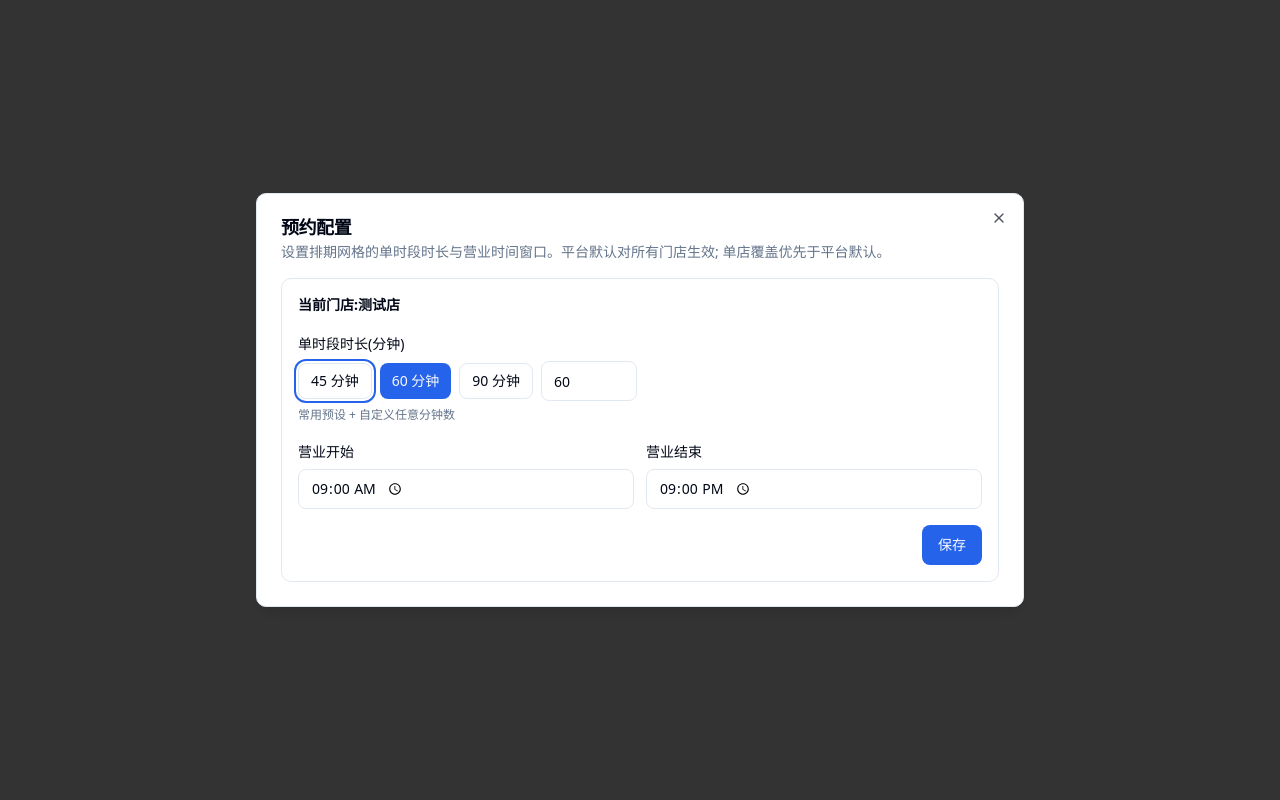
Test: BookingConfigDialog › duration:点 90 预设 → 自定义数字输入同步为 90,45/60 按钮变为非选中态
Check: the number field holds "60", box [541,361,637,401]
// 点 90 → 数字输入同步为 90,90 按钮变选中,60 变非选中
Click the button "90 分钟": (496, 381) [459,363,533,399]
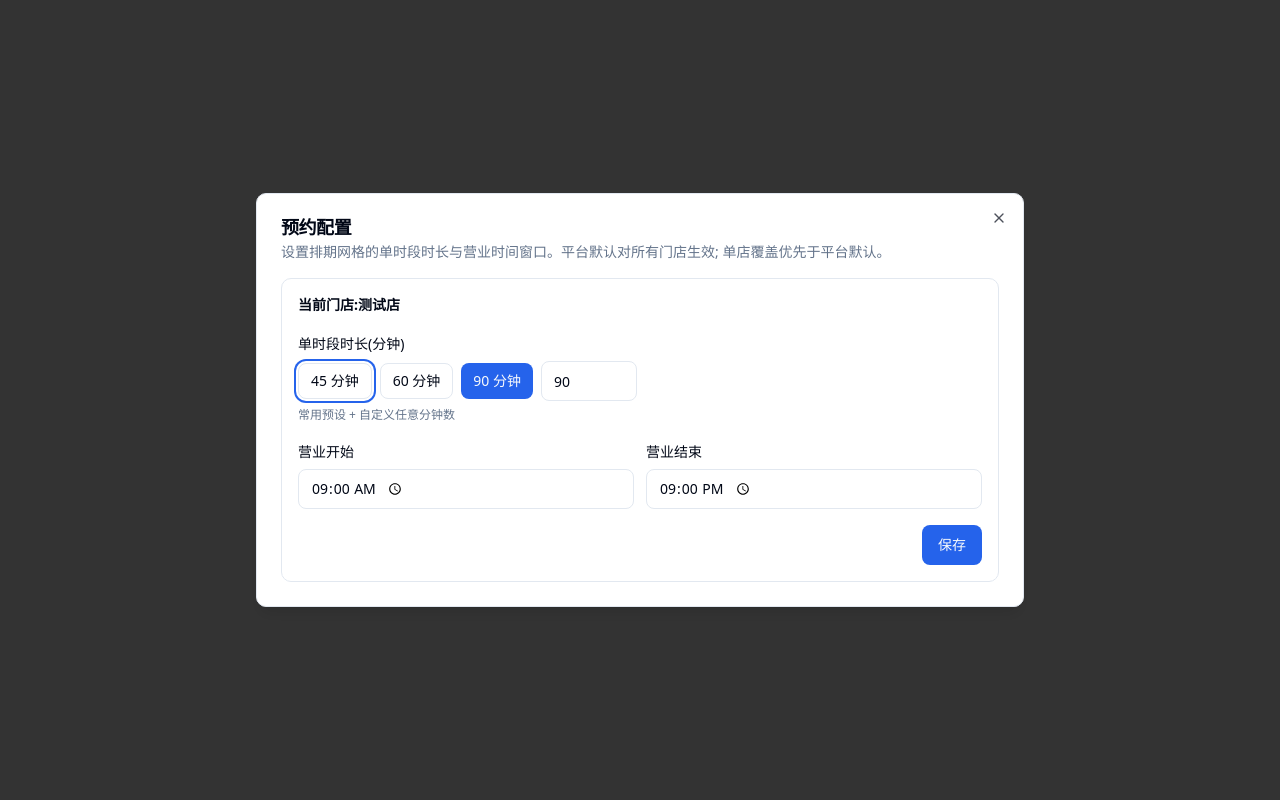
Check: the number field holds "90", box [541,361,637,401]
